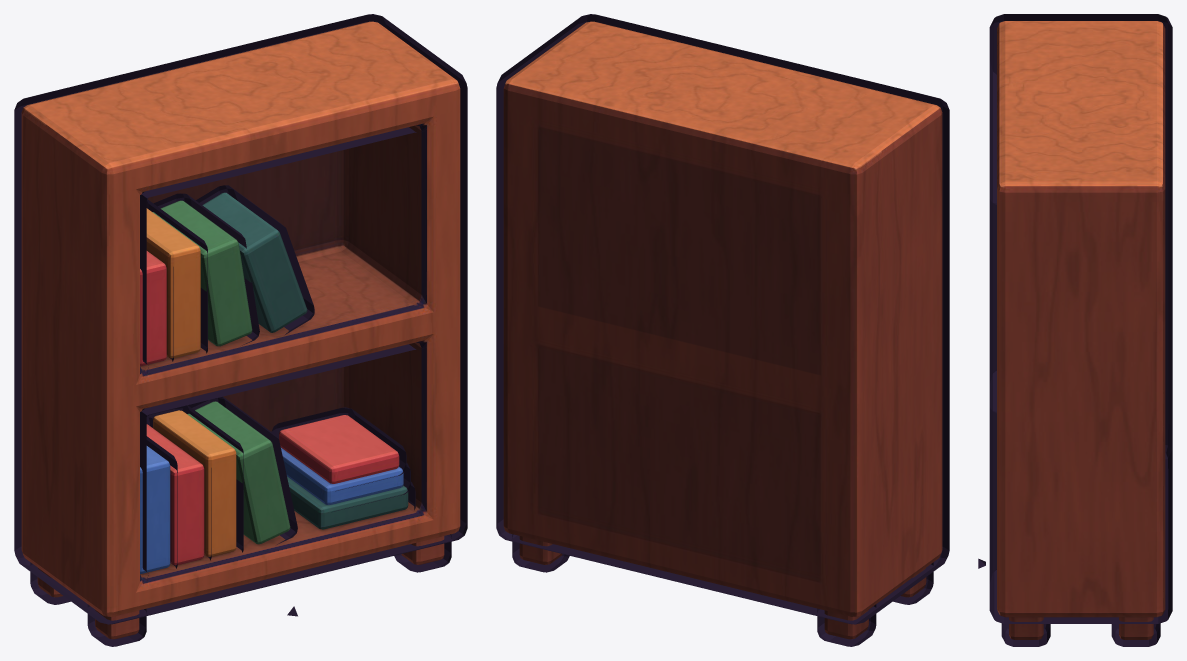
File: Bookshelf.glb
3 renders of one model, left to right at view 1: azimuth 30°, elevation 25°; view 2: azimuth 150°, elevation 25°; view 3: azimuth 270°, elevation 25°, orthographic. The views are drawn at different scales.
Visible parts, largest first — view 1: Bookshelf, Bookshelf_Outline; view 2: Bookshelf, Bookshelf_Outline; view 3: Bookshelf, Bookshelf_Outline.
Part boxes in pixels (<box>): Bookshelf: <box>21,21,460,639</box>; Bookshelf_Outline: <box>14,14,467,646</box>; Bookshelf: <box>503,21,942,639</box>; Bookshelf_Outline: <box>496,14,949,646</box>; Bookshelf: <box>997,21,1165,639</box>; Bookshelf_Outline: <box>989,14,1172,646</box>.
Size of the model in its own units: 4.15 by 5.3 by 1.96.
Materials: 2 (2 with a texture image).
